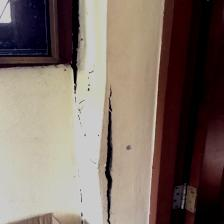High: (71, 1, 125, 224)
